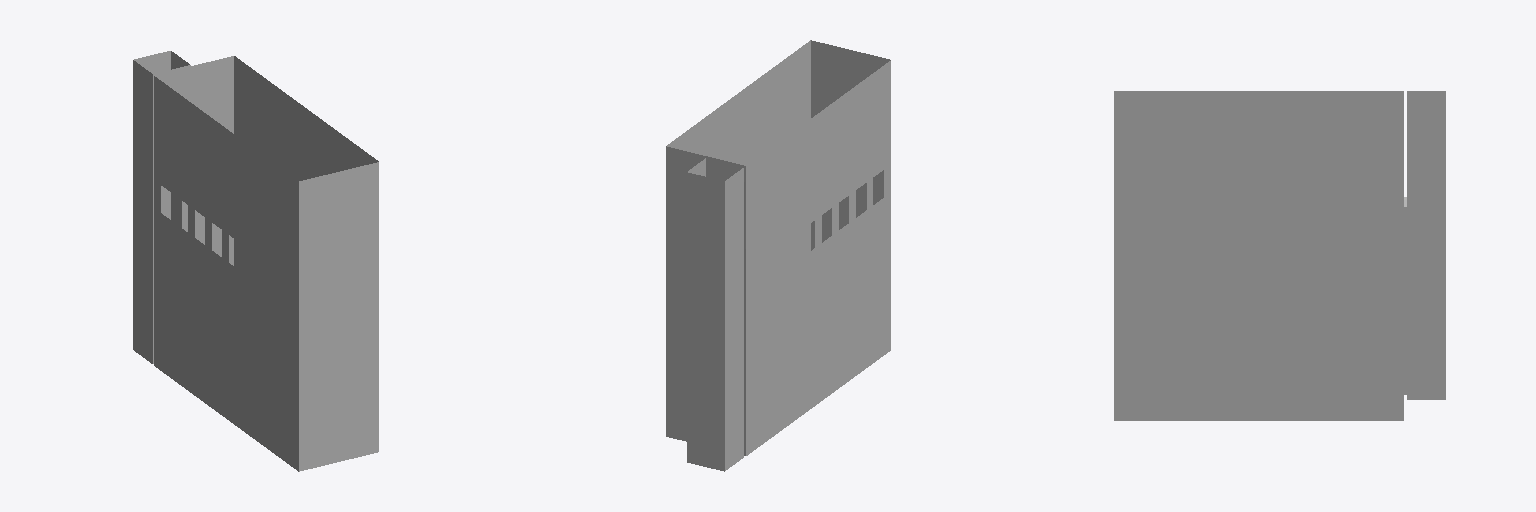
The model's file is room2.obj.
3 renders of one model, left to right at view 1: azimuth 30°, elevation 25°; view 2: azimuth 150°, elevation 25°; view 3: azimuth 270°, elevation 25°, orthographic.
Bounding box in the file's own units: 4.63 × 15.91 × 16.52.